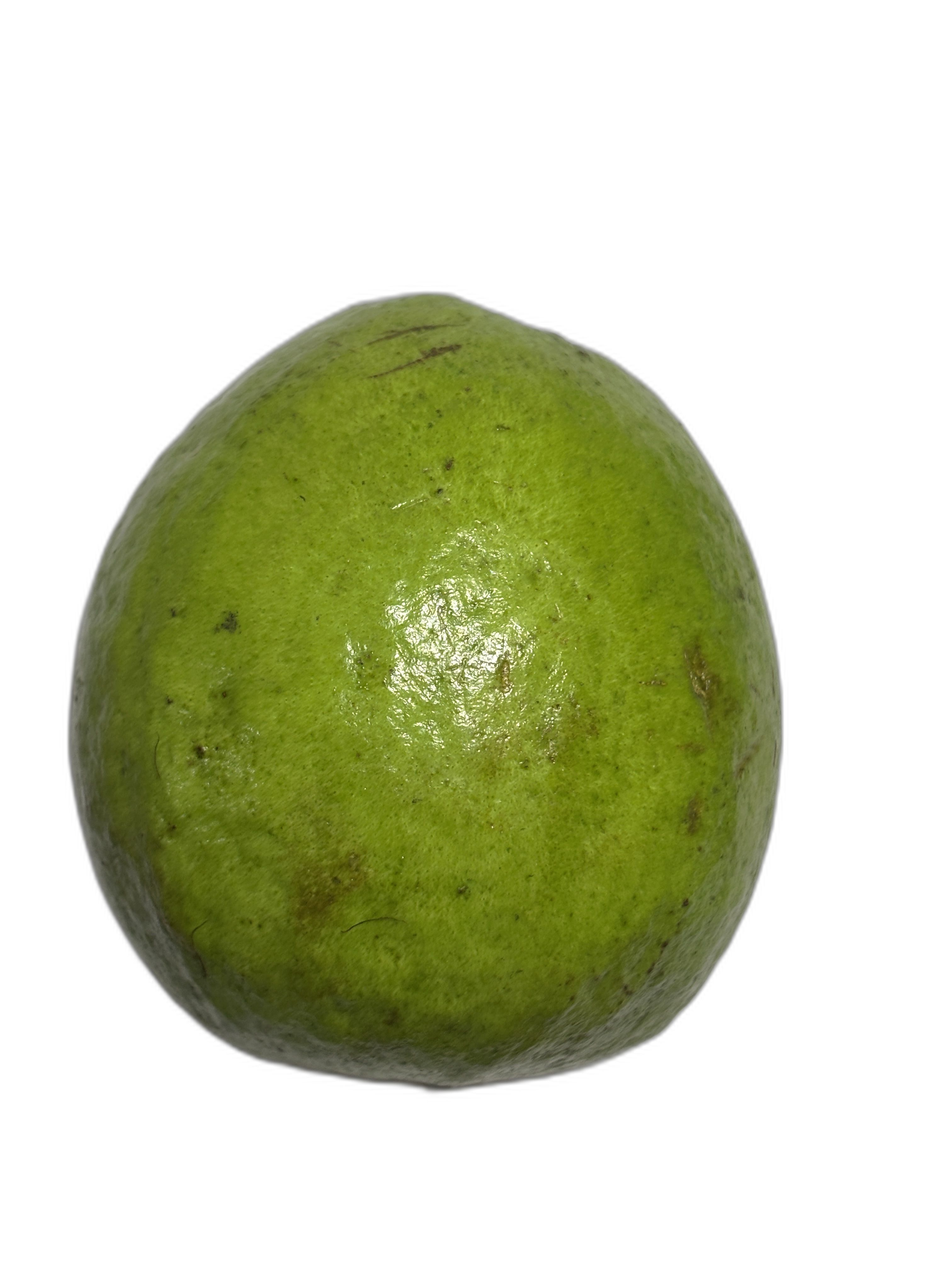guava: (66, 246, 797, 1111)
